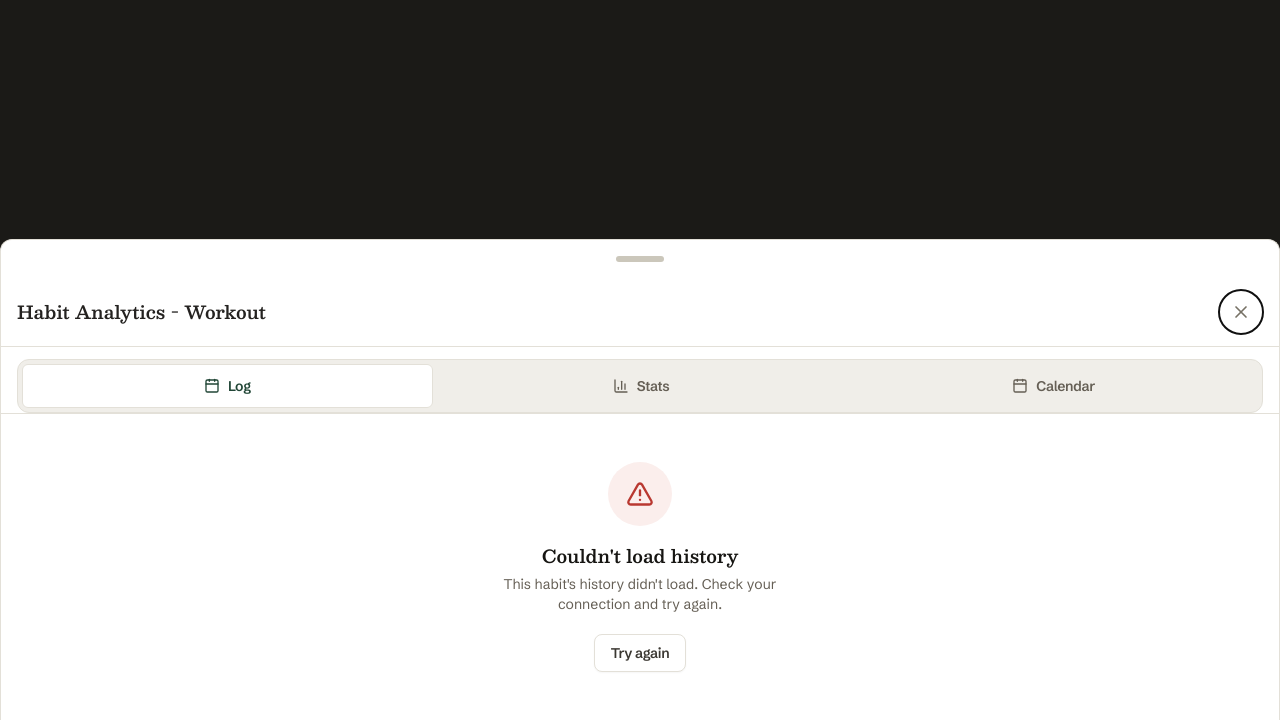
Test: HabitSubmissionLogModal — load timeout & retry › retries successfully: a second fetch that resolves clears the error and renders the submission
Click the button "Try again": {"x": 640, "y": 653} [594,634,686,672]
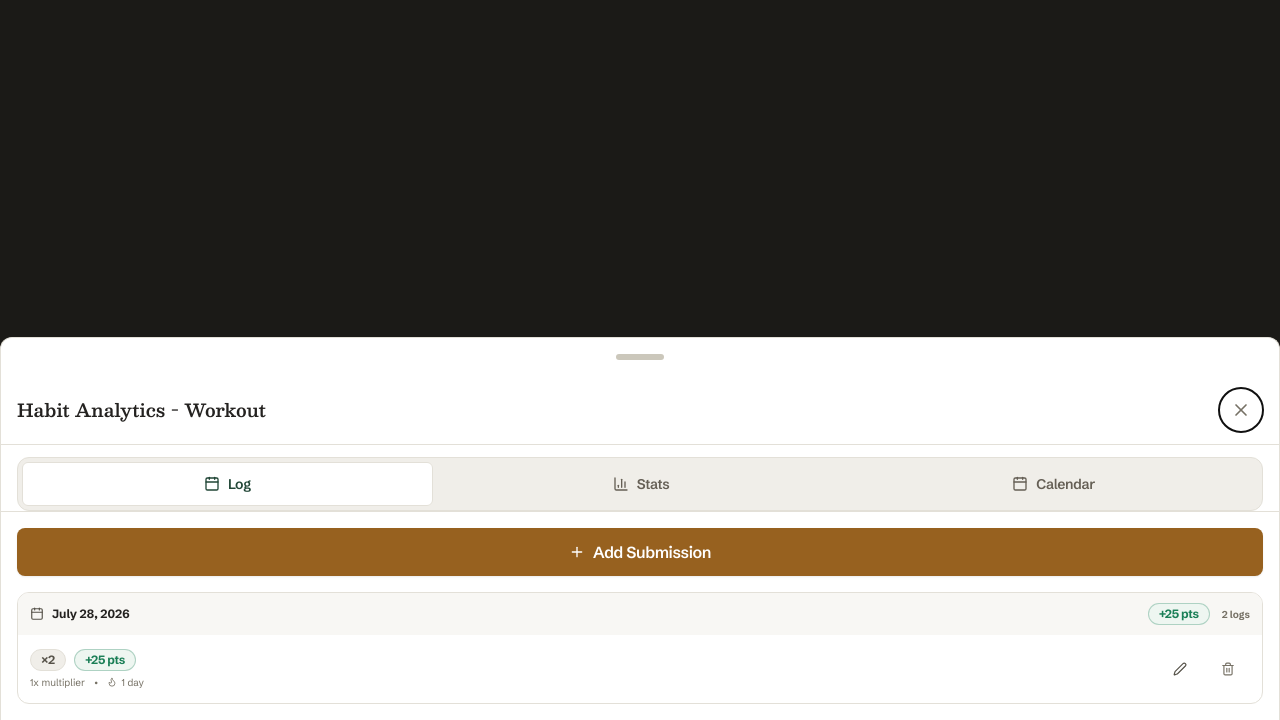
Now the heading "Couldn't load history" is gone
Now the text "×2" is shown, box [30,648,66,670]
